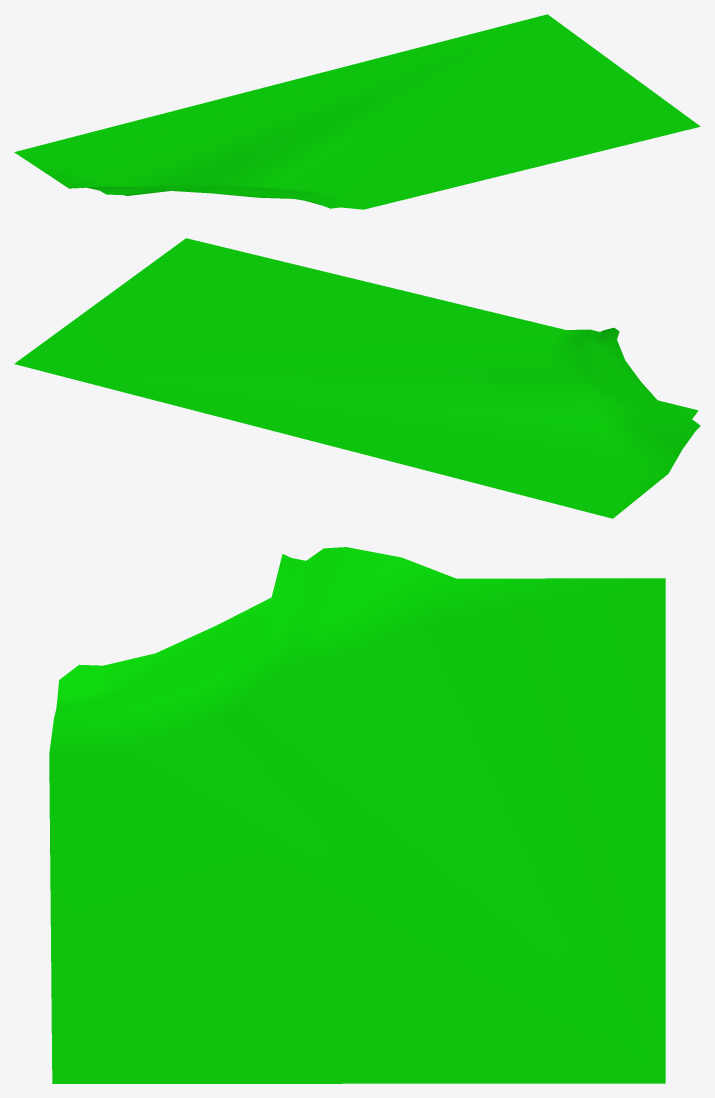
Rendered from ShorelineBackRight.glb.
The picture shows the model from 3 angles, top to bottom: view 1: azimuth 30°, elevation 25°; view 2: azimuth 150°, elevation 25°; view 3: azimuth 270°, elevation 25°; orthographic projection. The views are drawn at different scales.
Visible parts, largest first — view 1: ShorelineBackRight; view 2: ShorelineBackRight; view 3: ShorelineBackRight.
Boxes of the visible parts, x1,y1,x2,y2 form: ShorelineBackRight: (14, 14, 700, 209); ShorelineBackRight: (14, 238, 700, 518); ShorelineBackRight: (49, 547, 665, 1083).
Bounding box in the file's own units: 112 × 5.33 × 55.9.
